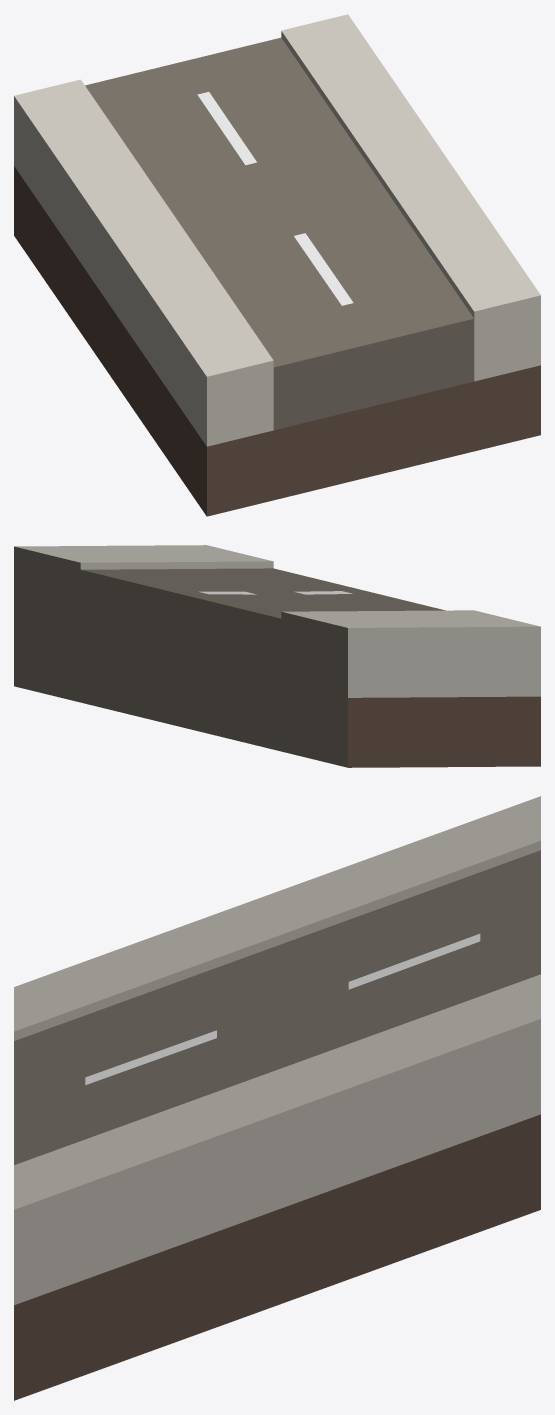
File: road-tile-straight-hill_01_small.fbx
3 renders of one model, top to bottom at view 1: azimuth 30°, elevation 25°; view 2: azimuth 150°, elevation 25°; view 3: azimuth 270°, elevation 25°, orthographic. The views are drawn at different scales.
Visible parts, largest first — view 1: road-tile-straight-hill_01_small; view 2: road-tile-straight-hill_01_small; view 3: road-tile-straight-hill_01_small.
Part boxes in pixels (x1,y1,x2,y2): road-tile-straight-hill_01_small: (14,14,540,516); road-tile-straight-hill_01_small: (14,545,540,767); road-tile-straight-hill_01_small: (14,796,540,1400).
Size of the model in its own units: 1000 by 800 by 1000.
